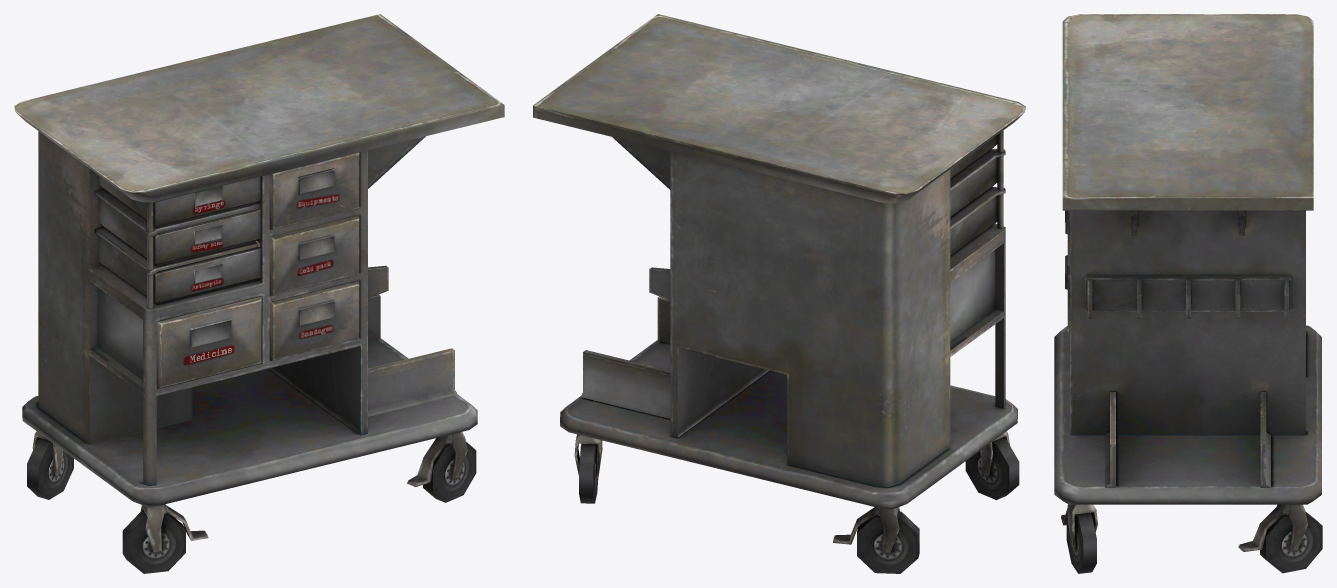
The model's file is VV_Medical_Cart.fbx.
The picture shows the model from 3 angles, left to right: view 1: azimuth 30°, elevation 25°; view 2: azimuth 150°, elevation 25°; view 3: azimuth 270°, elevation 25°; orthographic projection.
Visible parts, largest first — view 1: VV_Medical_Cart; view 2: VV_Medical_Cart; view 3: VV_Medical_Cart.
Part boxes in pixels (x1=…): VV_Medical_Cart: x1=14, y1=14, x2=504, y2=573; VV_Medical_Cart: x1=533, y1=14, x2=1025, y2=573; VV_Medical_Cart: x1=1054, y1=14, x2=1322, y2=573.
Size of the model in its own units: 90.4 by 89.6 by 55.53.
1 material, 1 textured.
